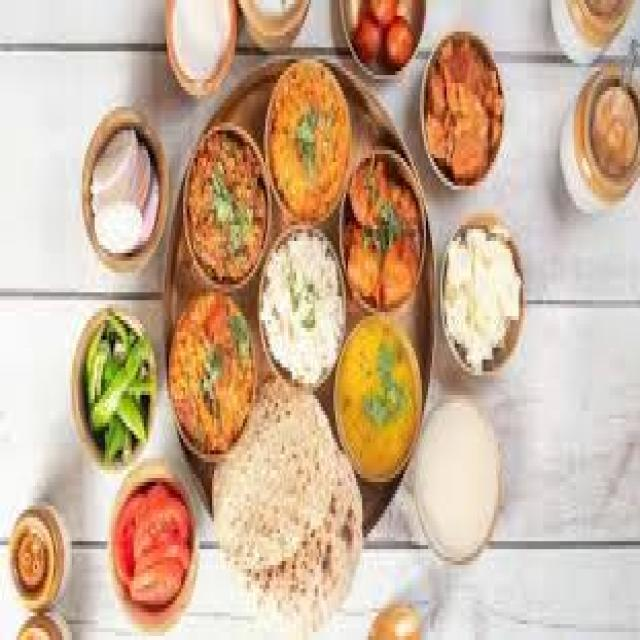dal: (331, 313, 424, 481)
pickle: (574, 82, 640, 196)
rice: (256, 225, 350, 385)
roti: (213, 384, 358, 629)
sweet: (85, 122, 165, 256), (571, 77, 640, 194), (340, 0, 432, 75)
veg-fry: (335, 151, 430, 321), (262, 57, 354, 230), (181, 136, 270, 290)
